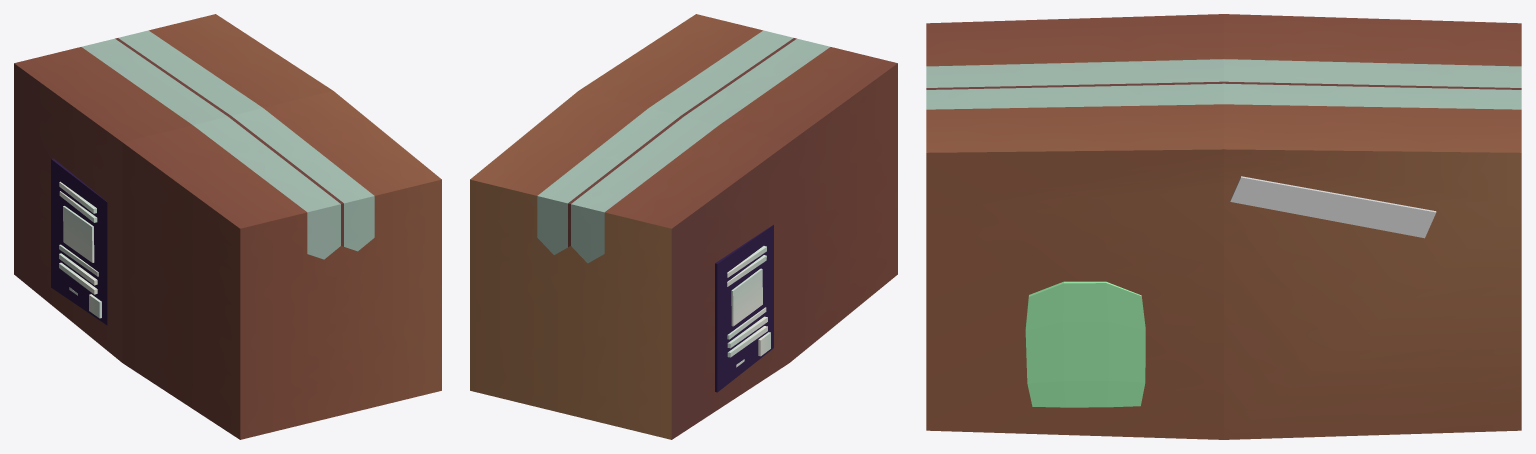
The model's file is Riven_CardboardBox04.fbx.
3 views of the same model, side by side, from view 1: azimuth 30°, elevation 25°; view 2: azimuth 150°, elevation 25°; view 3: azimuth 270°, elevation 25° (orthographic). The views are drawn at different scales.
Visible parts, largest first — view 1: BezosBox.003; view 2: BezosBox.003; view 3: BezosBox.003.
Part boxes in pixels (x1,y1,x2,y2): BezosBox.003: [14, 14, 441, 439]; BezosBox.003: [470, 14, 897, 439]; BezosBox.003: [926, 14, 1521, 439].
Bounding box in the file's own units: 78.05 × 76.11 × 141.
